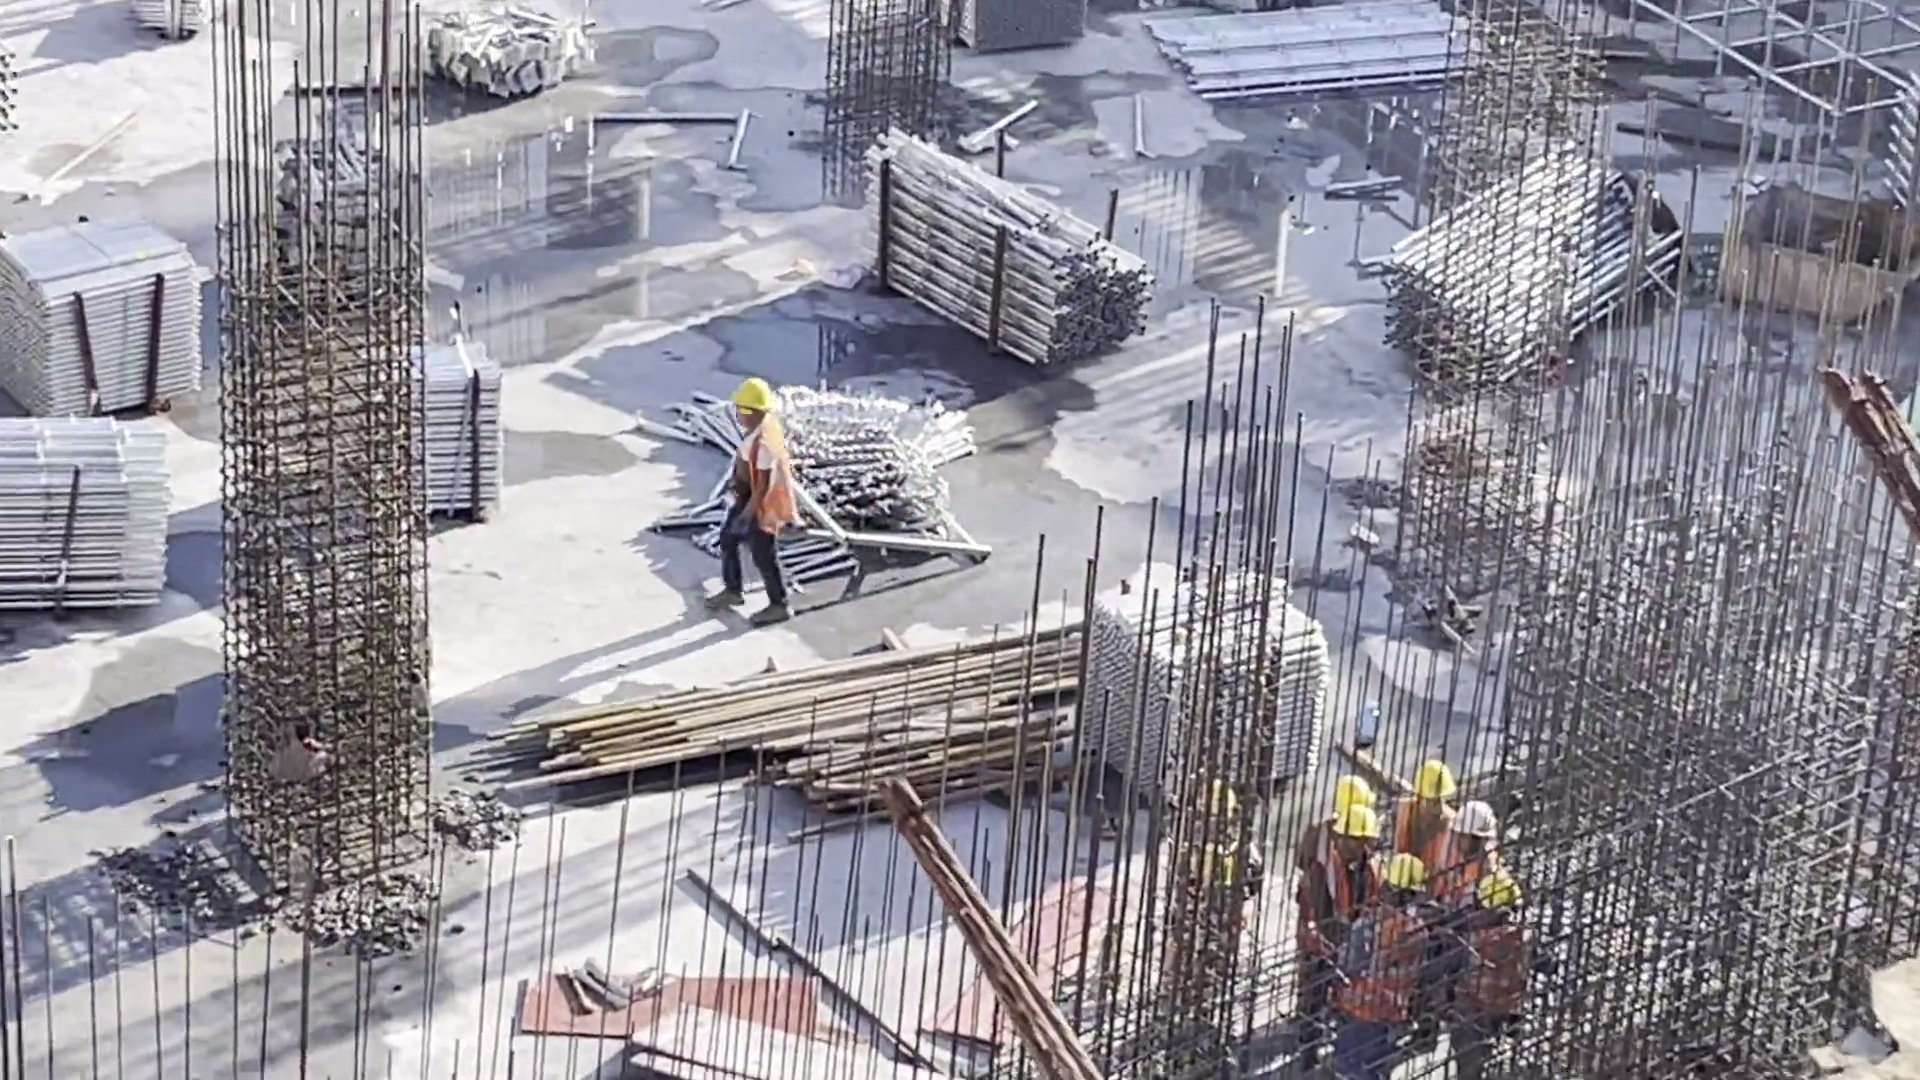helmet: (1186, 848, 1240, 884), (1334, 808, 1379, 851), (1370, 854, 1416, 892), (1190, 788, 1237, 821), (1340, 778, 1379, 816), (1461, 806, 1498, 844), (728, 382, 767, 418), (1416, 767, 1456, 803), (1482, 872, 1514, 908)
person: (1296, 801, 1383, 1073), (707, 376, 796, 630), (1338, 852, 1431, 1080), (1449, 873, 1545, 1080), (1415, 801, 1498, 901), (1290, 771, 1373, 867), (1379, 758, 1447, 868)
vest: (1351, 908, 1424, 1038), (734, 437, 784, 533), (1466, 915, 1518, 1008), (1306, 858, 1377, 923), (1389, 804, 1459, 855), (1437, 858, 1488, 894)
